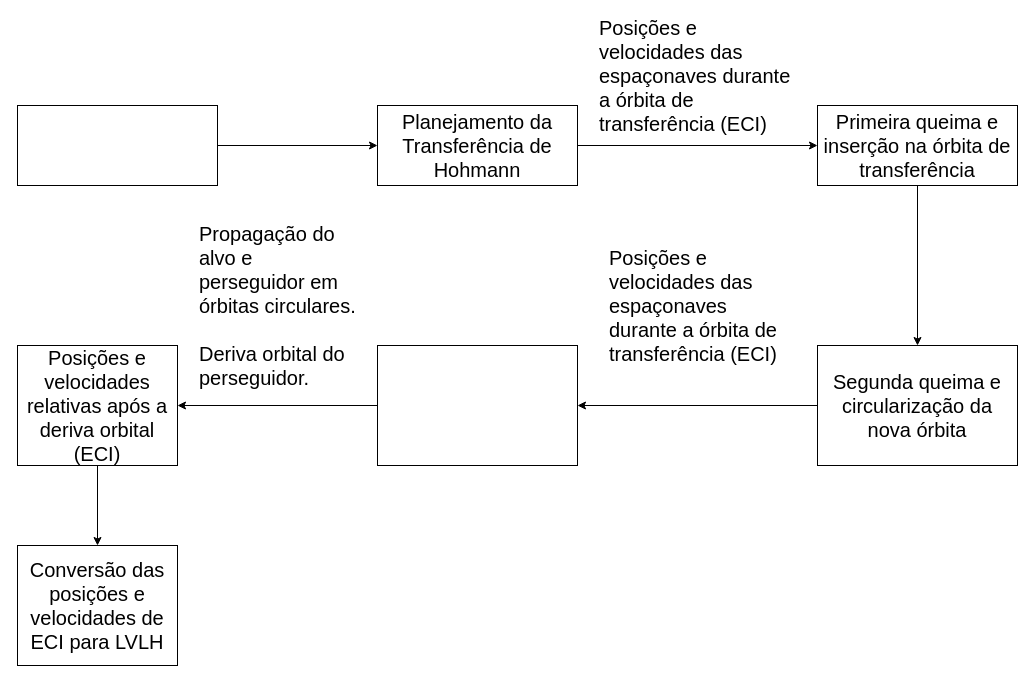
The diagram is 1035 pixels wide and 683 high, and some of its shapes have lost their labels. The box of each missing label's shape, as (x1, y1, x2, y2) in pixels:
Cálculo das queimas e tempo de transferência: (16, 104, 218, 186)
Movimento orbital absoluto (Problema de dois corpos): (376, 344, 578, 466)
